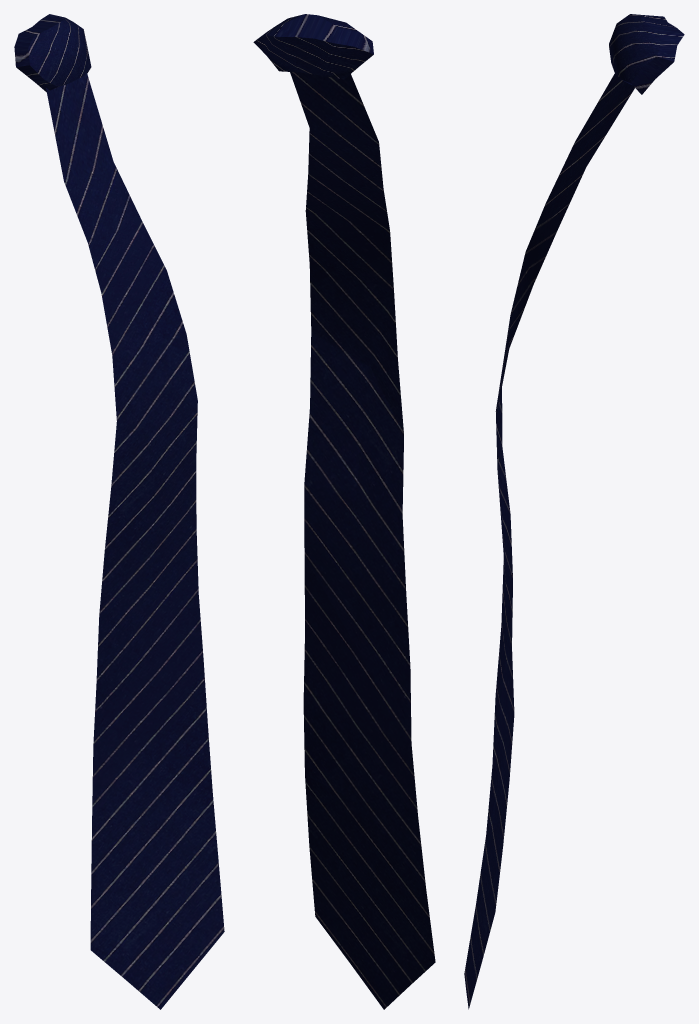
Rendered from Pose-2_Tie-4.fbx.
3 renders of one model, left to right at view 1: azimuth 30°, elevation 25°; view 2: azimuth 150°, elevation 25°; view 3: azimuth 270°, elevation 25°, orthographic. The views are drawn at different scales.
Parts seen in each view (by area): view 1: Pose-2_Tie-4; view 2: Pose-2_Tie-4; view 3: Pose-2_Tie-4.
Part boxes in pixels (box(x1,y1,x2,y2)): Pose-2_Tie-4: box(14, 14, 224, 1009); Pose-2_Tie-4: box(253, 14, 435, 1009); Pose-2_Tie-4: box(464, 14, 684, 1009).
Size of the model in its own units: 7.44 by 50.95 by 10.39.
